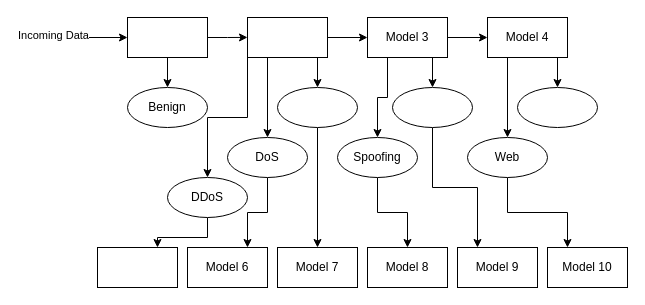
This 645x305 diagram has some shape labels left out. Here are the shapes that lost their labels. From the top down, the centre of each, then its label:
point 167,37: Model 1
point 287,37: Model 2
point 317,107: Mirai
point 432,107: Recon
point 557,107: BruteForce
point 137,267: Model 5
